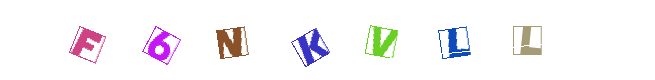6: (120, 0, 200, 80)
F: (46, 0, 126, 80)
K: (289, 0, 369, 80)
L: (342, 0, 422, 80), (415, 0, 495, 80)
N: (190, 0, 270, 80)
V: (331, 0, 411, 80)
